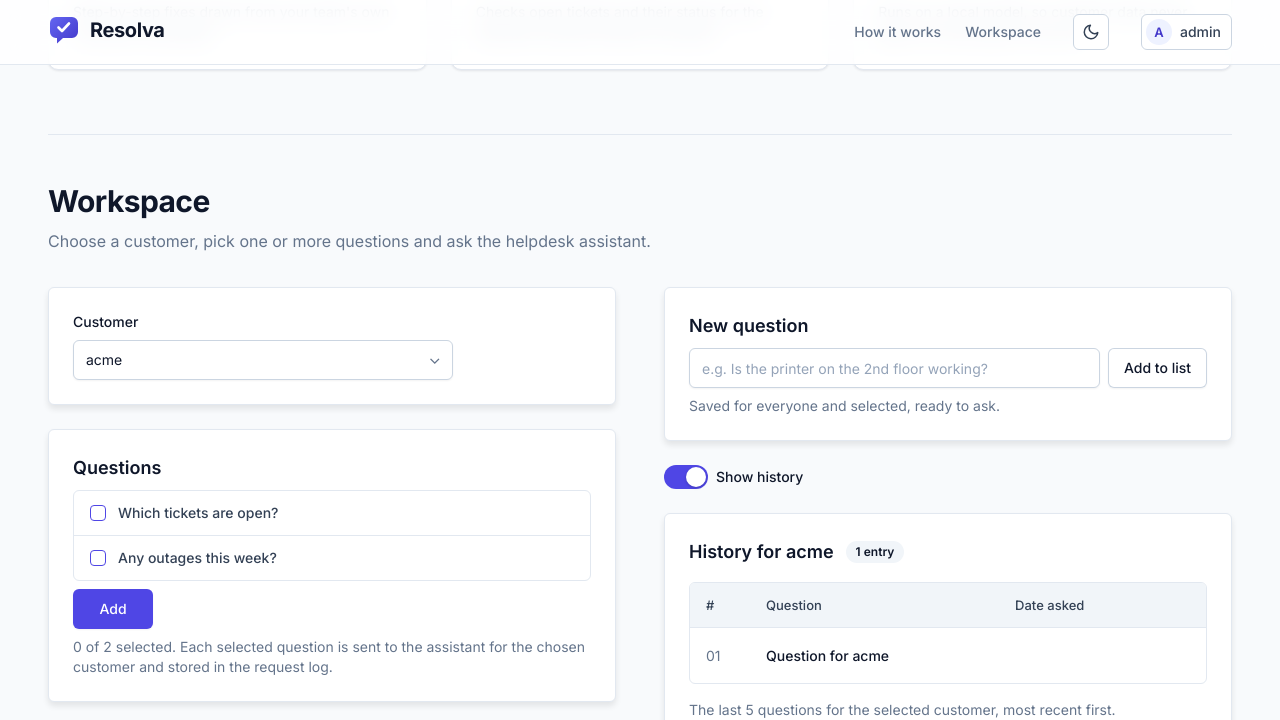
App › loads the history of the newly selected customer
(page scrolled)
Expected: the text "Question for acme" is shown, [766,646,889,664]
Select "globex" in the dropdown labelled "Customer" at point(263, 360), box [73,340,453,380]
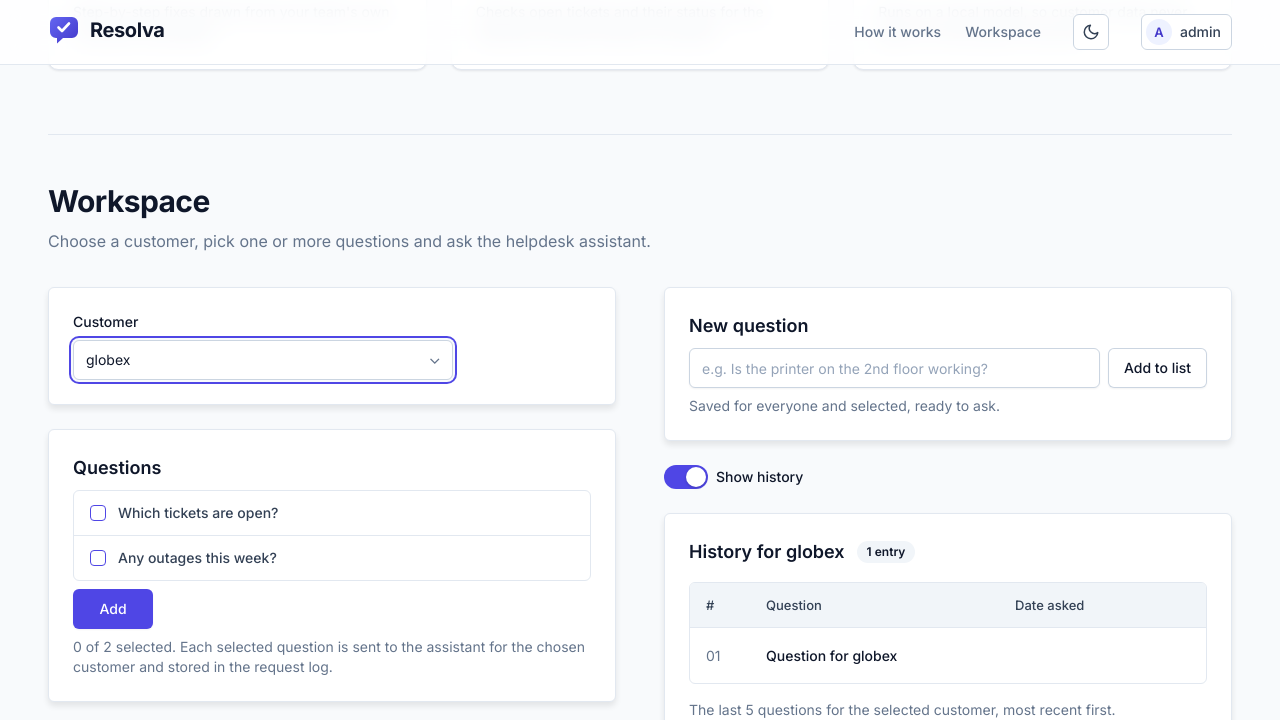
Expected: the text "Question for globex" is shown, [766,646,897,664]
Expected: the text "Question for acme" is gone
